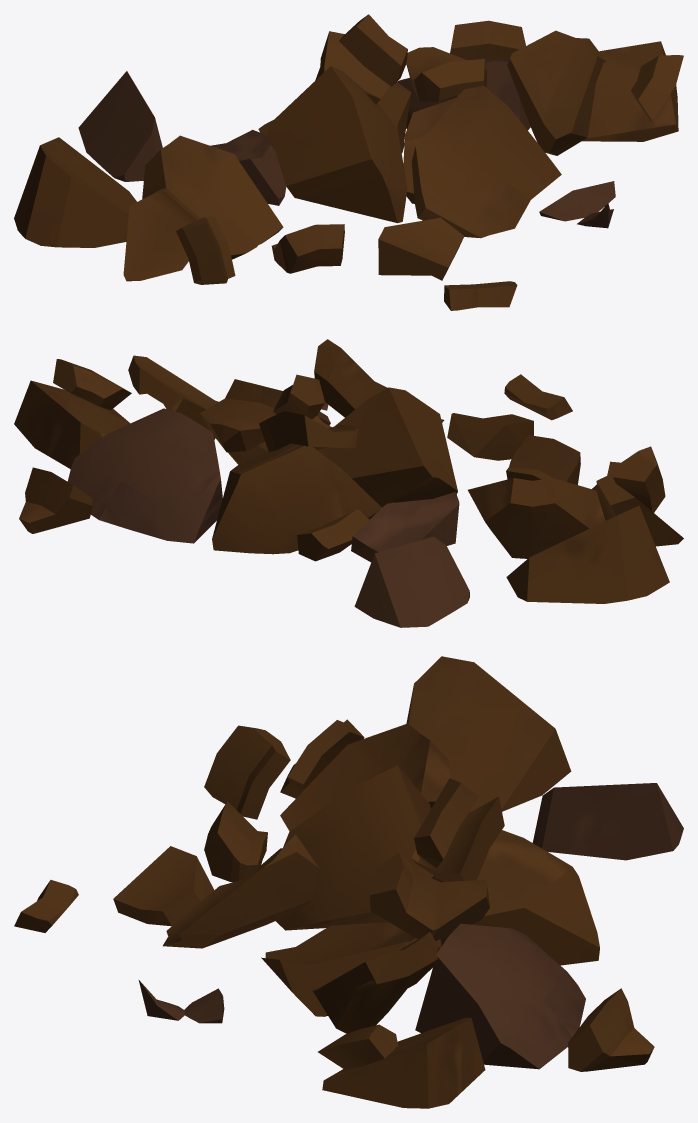
Rendered from Vase_Rubble_Medium.glb.
3 views of the same model, one above another, from view 1: azimuth 30°, elevation 25°; view 2: azimuth 150°, elevation 25°; view 3: azimuth 270°, elevation 25° (orthographic). The views are drawn at different scales.
Visible parts, largest first — view 1: Vase_Rubble_Medium; view 2: Vase_Rubble_Medium; view 3: Vase_Rubble_Medium.
Part boxes in pixels (x1,y1,x2,y2): Vase_Rubble_Medium: (14,14,683,310); Vase_Rubble_Medium: (14,339,683,627); Vase_Rubble_Medium: (14,656,683,1108).
Bounding box in the file's own units: 0.7969 × 0.1746 × 0.5985.
1 material, 1 textured.
